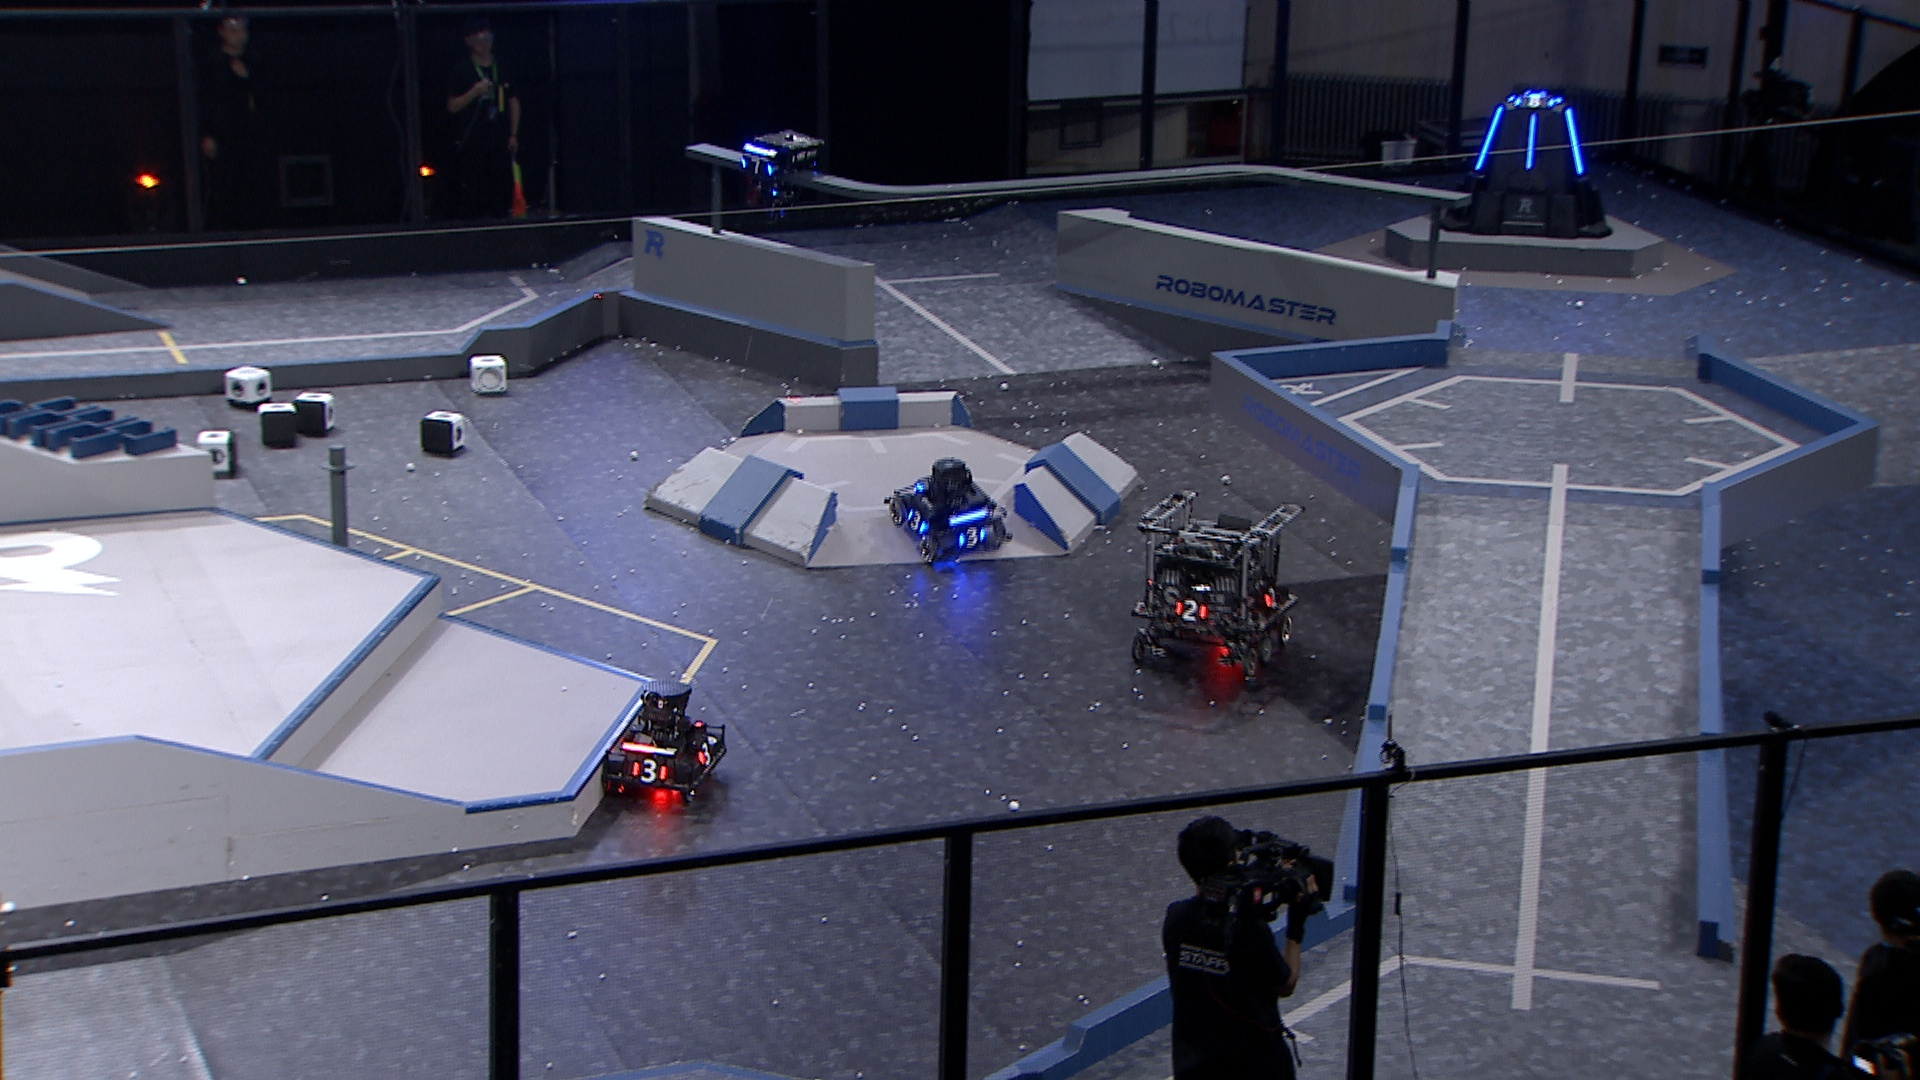armor: (1472, 105, 1505, 171), (1561, 107, 1586, 175), (632, 756, 666, 785), (1513, 90, 1556, 111), (1174, 595, 1207, 622), (737, 156, 775, 178), (1524, 112, 1538, 174), (956, 524, 986, 549), (905, 508, 928, 535), (695, 738, 717, 765), (1261, 585, 1282, 612)
base: (1433, 86, 1615, 240)
car: (1129, 488, 1305, 680), (599, 675, 728, 807), (887, 456, 1013, 560)
watcher: (733, 128, 825, 224)
